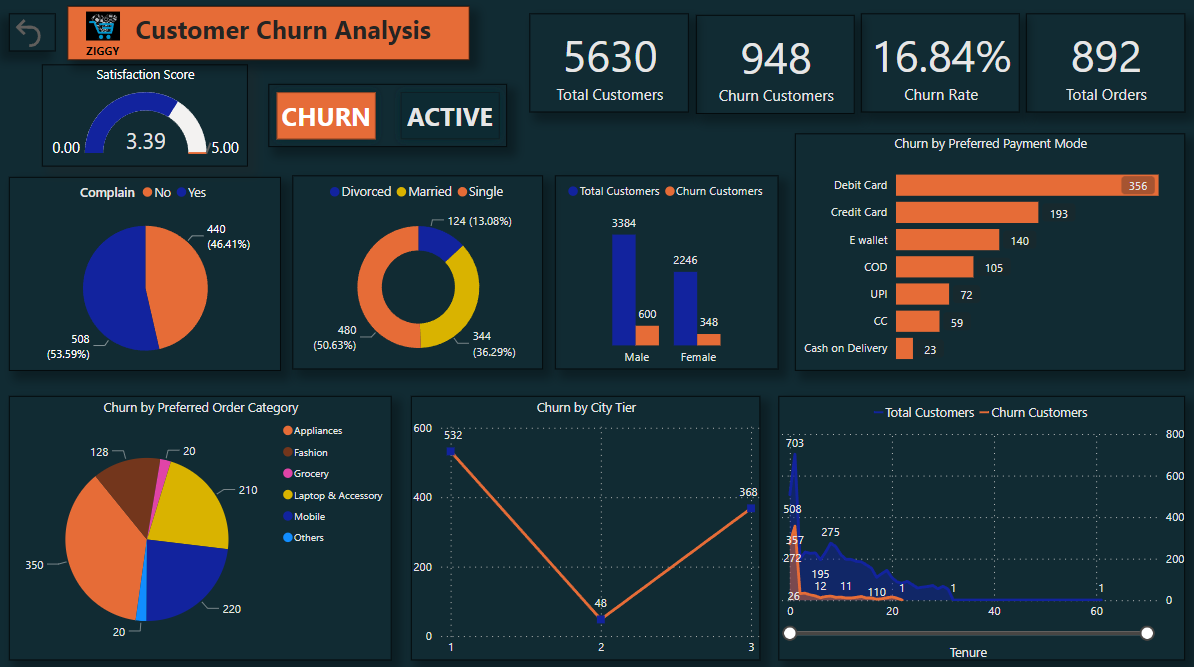

Layout of this report page (visuals, bound fields, positions):
{"tool":"powerbi","page":{"name":"CHURN","canvas":[1280,720],"ordinal":0},"visuals":[{"type":"textbox","box":[78,12.7,426,57],"z":0},{"type":"card","fields":{"Values":["Measure.Total Customers"]},"box":[567.4,20.7,168.5,104.9],"z":1000},{"type":"card","fields":{"Values":["Measure.Total Churn"]},"box":[743.1,21.7,168,104.9],"z":2000},{"type":"card","fields":{"Values":["Measure.Churn Rate"]},"box":[918.3,20.1,168,104.9],"z":3000},{"type":"clusteredColumnChart","title":"Churn Customer Tenure ","fields":{"Category":["E Comm.Gender"],"Y":["CountNonNull(E Comm.CustomerID)","Measure.Total Churn"]},"box":[594.4,192.3,236.8,205],"z":4000},{"type":"gauge","title":"Satisfaction Score","fields":{"MaxValue":["Measure.Max Satisfaction Value"],"Y":["Measure.Average Satisfaction"],"TargetValue":["Max(E Comm.SatisfactionScore)"]},"box":[50.9,74.7,217.7,108.1],"z":5000},{"type":"pieChart","title":"Churn by Preferred Order Category","fields":{"Category":["E Comm.PreferedOrderCat"],"Y":["Measure.Total Churn"]},"box":[15.9,426,405.3,279.7],"z":6000},{"type":"pieChart","title":"Complain","fields":{"Category":["E Comm.Complain"],"Y":["Measure.Total Churn"]},"box":[15.9,193.9,287.7,205],"z":7000},{"type":"donutChart","fields":{"Category":["E Comm.MaritalStatus"],"Y":["Measure.Total Churn"]},"box":[316.3,192.3,265.4,205],"z":8000},{"type":"lineChart","title":"Churn by City Tier","fields":{"Category":["E Comm.CityTier"],"Y":["Measure.Total Churn"]},"box":[441.1,426,370.3,279.7],"z":9000},{"type":"clusteredBarChart","title":"Churn by Preferred Payment Mode","fields":{"Category":["E Comm.PreferredPaymentMode"],"Y":["Measure.Total Churn"]},"box":[848.7,147.8,413.2,251.1],"z":10000},{"type":"actionButton","box":[15.9,21,49.3,39.7],"z":11000},{"type":"image","box":[92,8,46.1,52.5],"z":12000},{"type":"textbox","box":[78,44,74.7,35],"z":13000},{"type":"pageNavigator","box":[290.9,95.4,252.7,66.8],"z":14000},{"type":"areaChart","title":"Churn Customer Tenure ","fields":{"Category":["E Comm.Tenure"],"Y":["Measure.Total Customers","Measure.Total Churn"]},"box":[831.3,426,430.7,279.7],"z":15000},{"type":"card","fields":{"Values":["CountNonNull(E Comm.OrderCount)"]},"box":[1093.5,20.7,168.5,104.9],"z":16000}]}

Visuals, with their boxes in screenshot pixels (x1, y1, x2, y2), scaled from the page's 1280x720 canvas onto the 1194x667 screenshot:
textbox: <region>73, 12, 470, 65</region>
card - Measure.Total Customers: <region>529, 19, 686, 116</region>
card - Measure.Total Churn: <region>693, 20, 850, 117</region>
card - Measure.Churn Rate: <region>857, 19, 1013, 116</region>
"Churn Customer Tenure " clusteredColumnChart: <region>554, 178, 775, 368</region>
"Satisfaction Score" gauge: <region>47, 69, 251, 169</region>
"Churn by Preferred Order Category" pieChart: <region>15, 395, 393, 654</region>
"Complain" pieChart: <region>15, 180, 283, 370</region>
donutChart - E Comm.MaritalStatus x Measure.Total Churn: <region>295, 178, 543, 368</region>
"Churn by City Tier" lineChart: <region>411, 395, 757, 654</region>
"Churn by Preferred Payment Mode" clusteredBarChart: <region>792, 137, 1177, 370</region>
actionButton: <region>15, 19, 61, 56</region>
image: <region>86, 7, 129, 56</region>
textbox: <region>73, 41, 142, 73</region>
pageNavigator: <region>271, 88, 507, 150</region>
"Churn Customer Tenure " areaChart: <region>775, 395, 1177, 654</region>
card - CountNonNull(E Comm.OrderCount): <region>1020, 19, 1177, 116</region>
